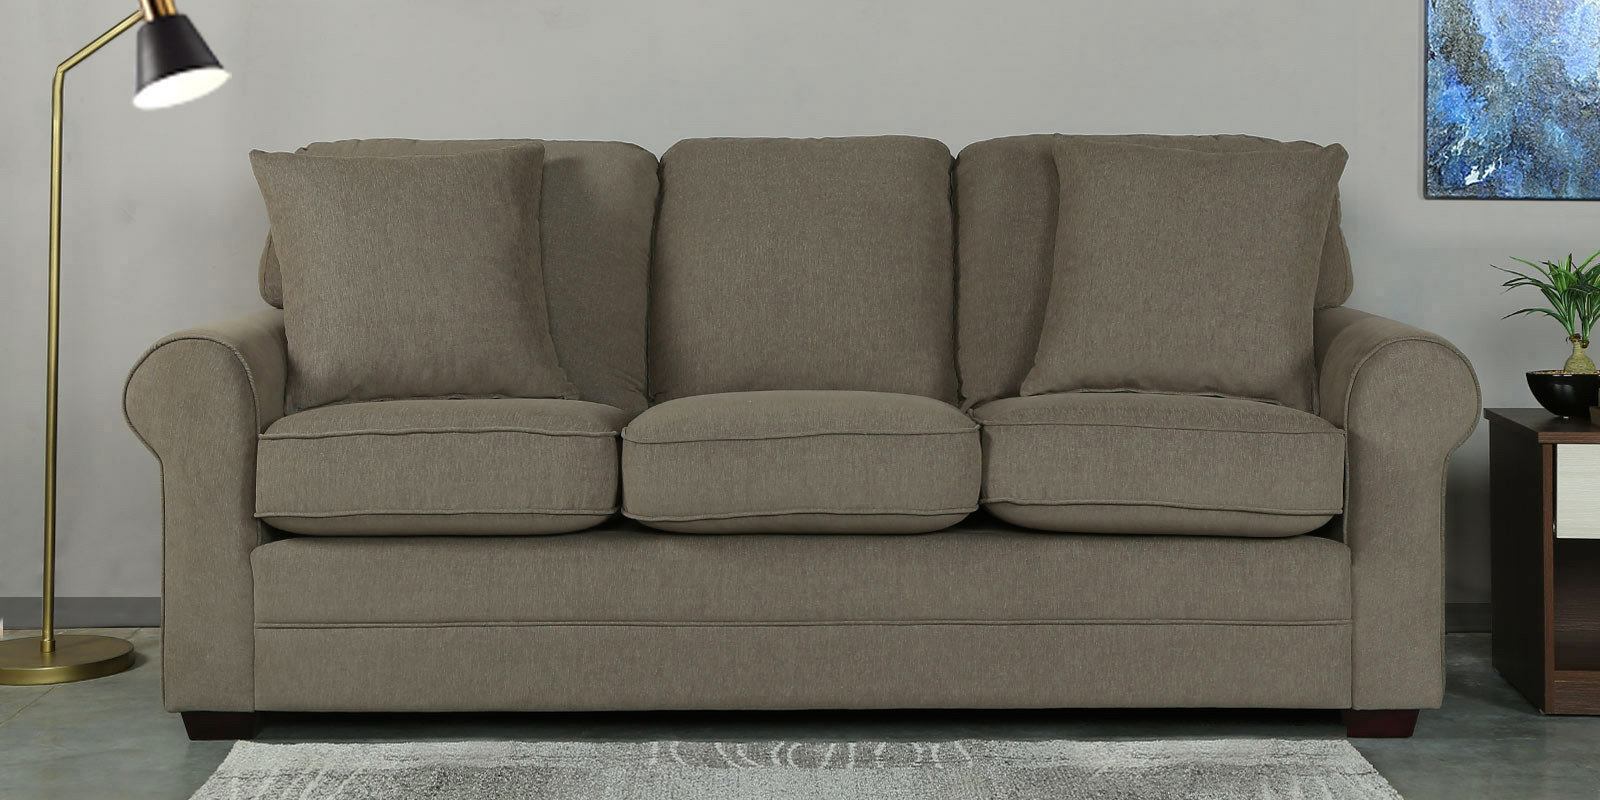Madeira Three Seater Sofa in Sandy Brown Colour by CasaCraft: (120, 129, 1485, 739)
